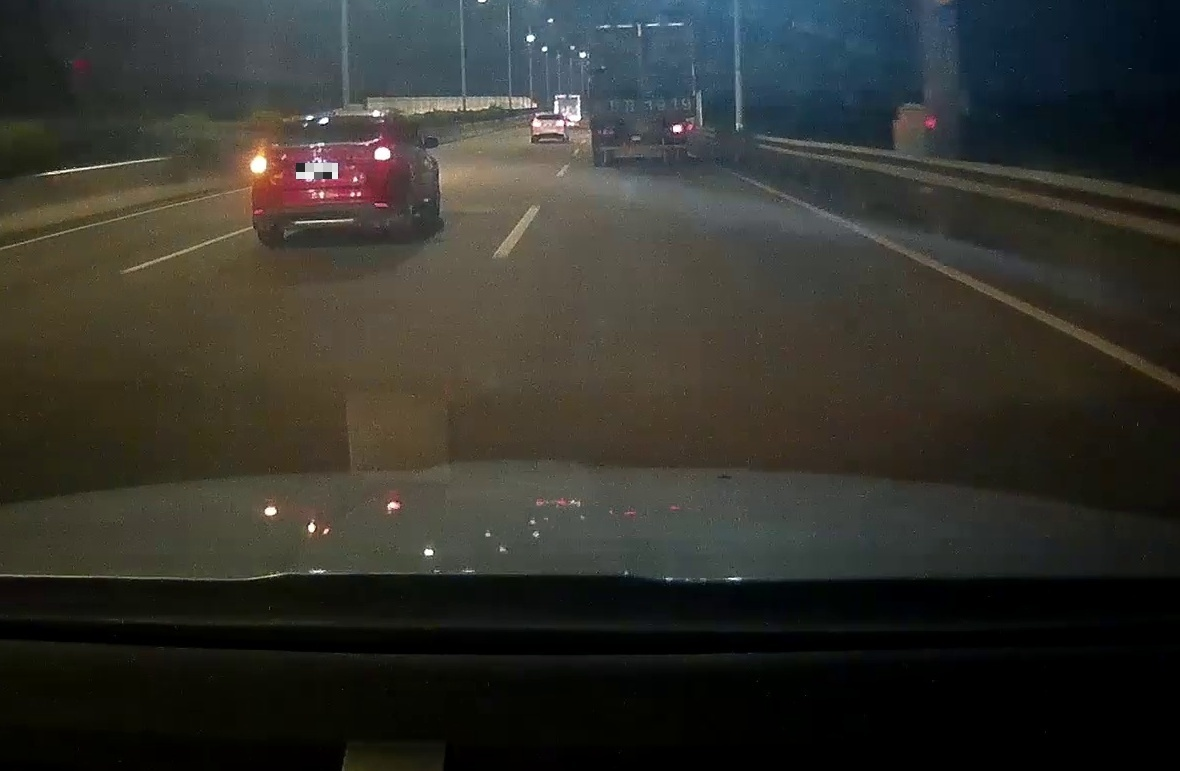L_light: (250, 155, 279, 175), (593, 128, 615, 136)
R_light: (367, 145, 395, 164), (669, 124, 689, 134)
T_light: (313, 116, 336, 123), (630, 26, 648, 33)
night-left: (249, 109, 399, 245)
night-right: (586, 22, 694, 166)
plate_1: (296, 163, 338, 179)
